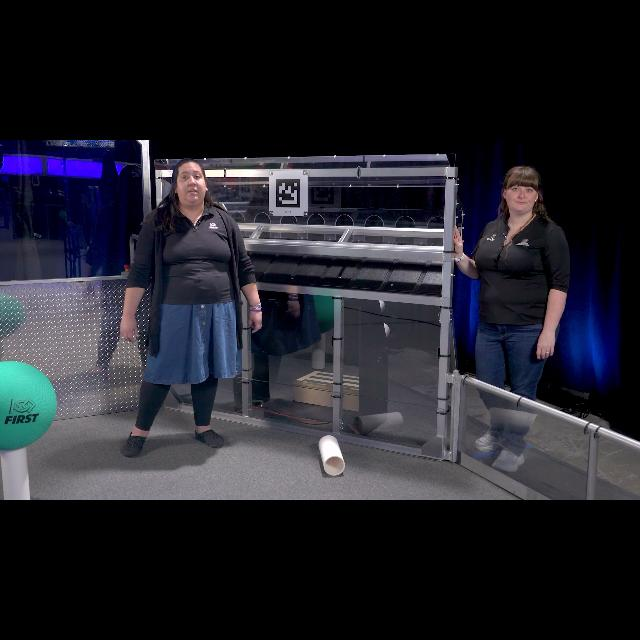ALGAE: (0, 361, 56, 451)
CORAL: (1, 446, 32, 499), (318, 436, 346, 476)
